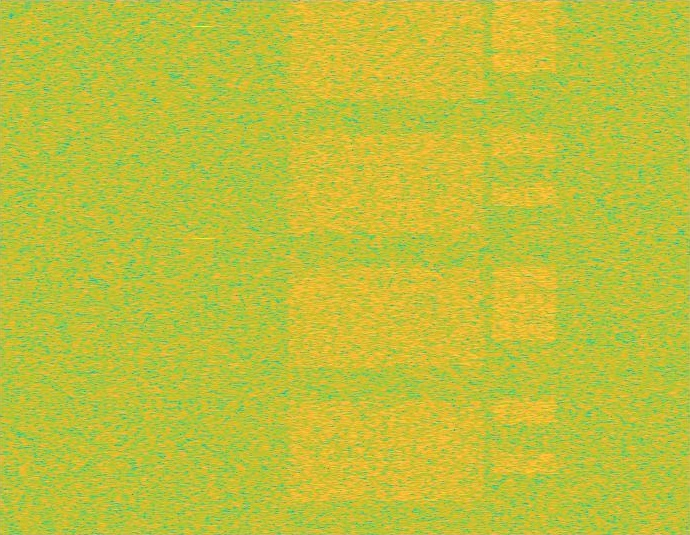5G: (283, 0, 490, 534)
LTE: (490, 0, 559, 534)
Radar: (196, 0, 210, 534)
